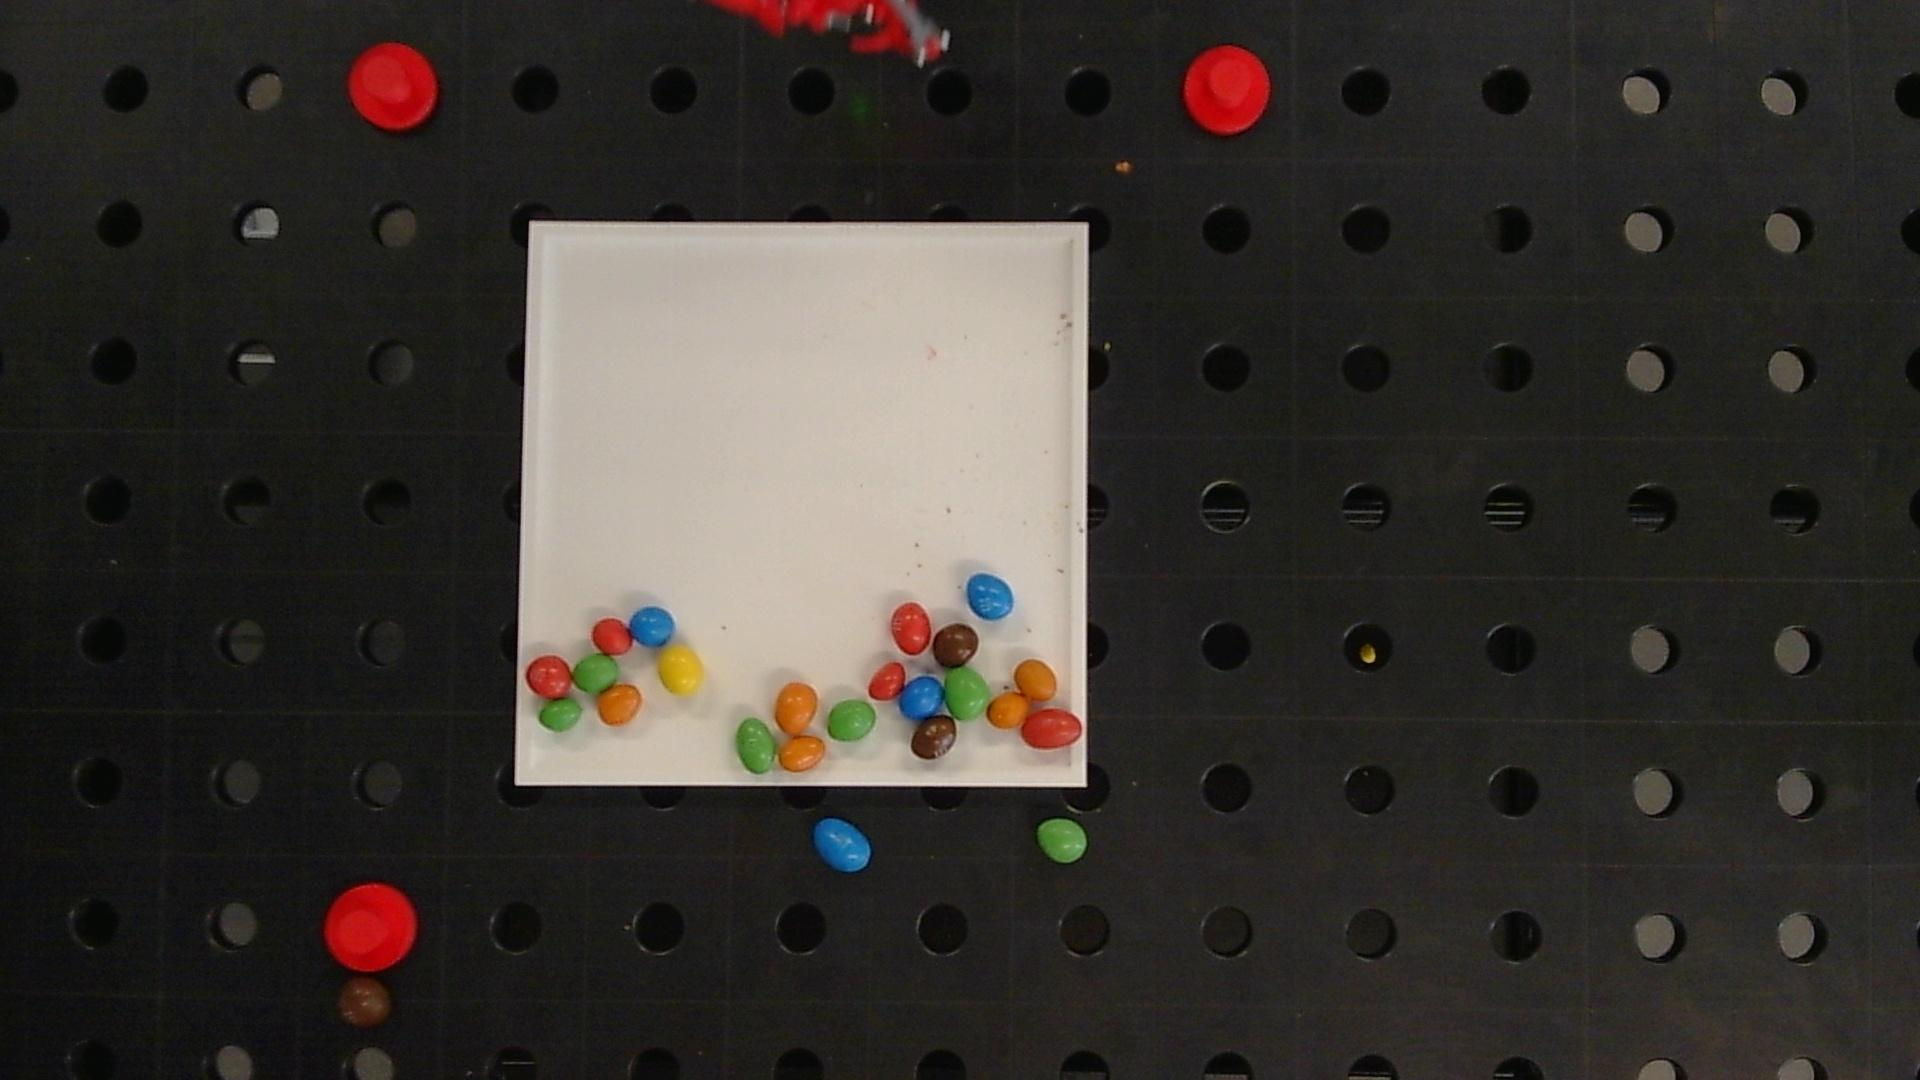blue: (812, 818, 873, 873), (967, 572, 1014, 618), (628, 605, 675, 647), (899, 675, 943, 719)
brown: (911, 715, 957, 760), (932, 622, 978, 667)
green: (1036, 819, 1088, 864), (944, 669, 989, 720), (736, 717, 777, 773), (827, 699, 877, 741), (572, 654, 617, 692), (538, 699, 583, 732)
orange: (775, 682, 819, 735), (597, 683, 642, 725), (1014, 658, 1056, 702), (779, 736, 824, 771), (988, 692, 1029, 728)
red: (1021, 709, 1083, 748), (891, 601, 931, 654), (525, 654, 572, 698), (592, 617, 632, 655), (868, 662, 905, 699)
yellow: (658, 646, 704, 695)
